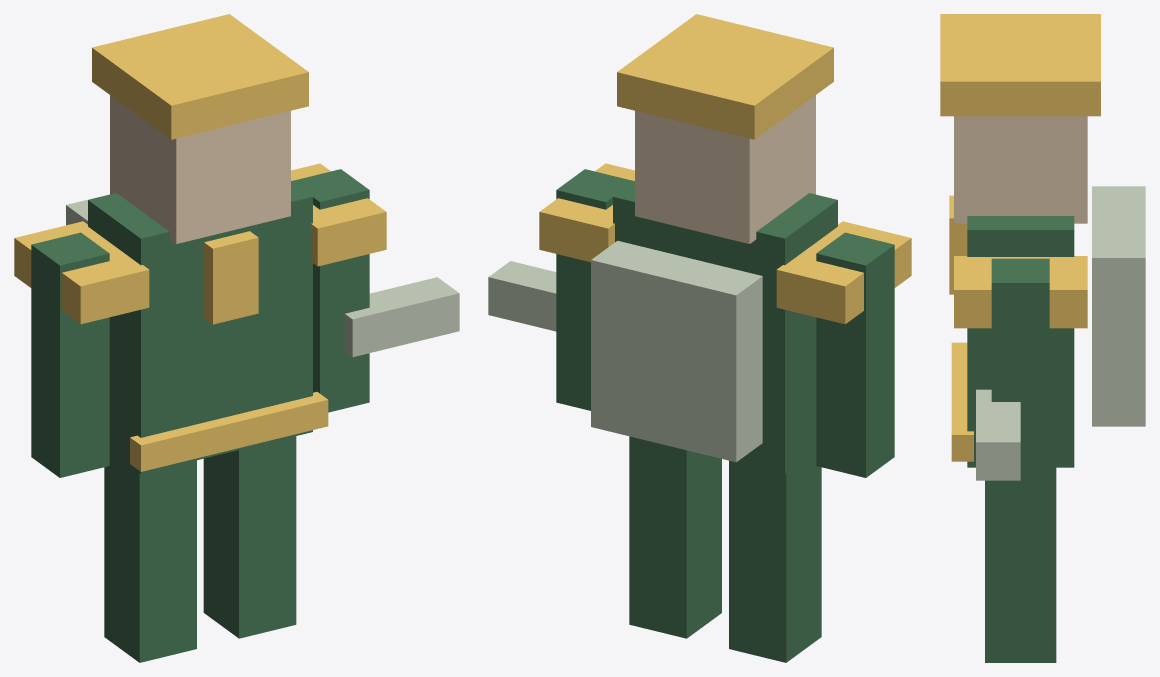
File: 14_thorne_frostrelay_runner_under.glb
3 views of the same model, side by side, from view 1: azimuth 30°, elevation 25°; view 2: azimuth 150°, elevation 25°; view 3: azimuth 270°, elevation 25° (orthographic).
Parts seen in each view (by area): view 1: Thorne Frostrelay, Runner under; view 2: Thorne Frostrelay, Runner under; view 3: Thorne Frostrelay, Runner under.
Part boxes in pixels (x1=…): Thorne Frostrelay, Runner under: x1=14, y1=14, x2=459, y2=662; Thorne Frostrelay, Runner under: x1=488, y1=14, x2=911, y2=662; Thorne Frostrelay, Runner under: x1=940, y1=14, x2=1145, y2=662.
Size of the model in its own units: 1.06 by 1.48 by 0.4759.
